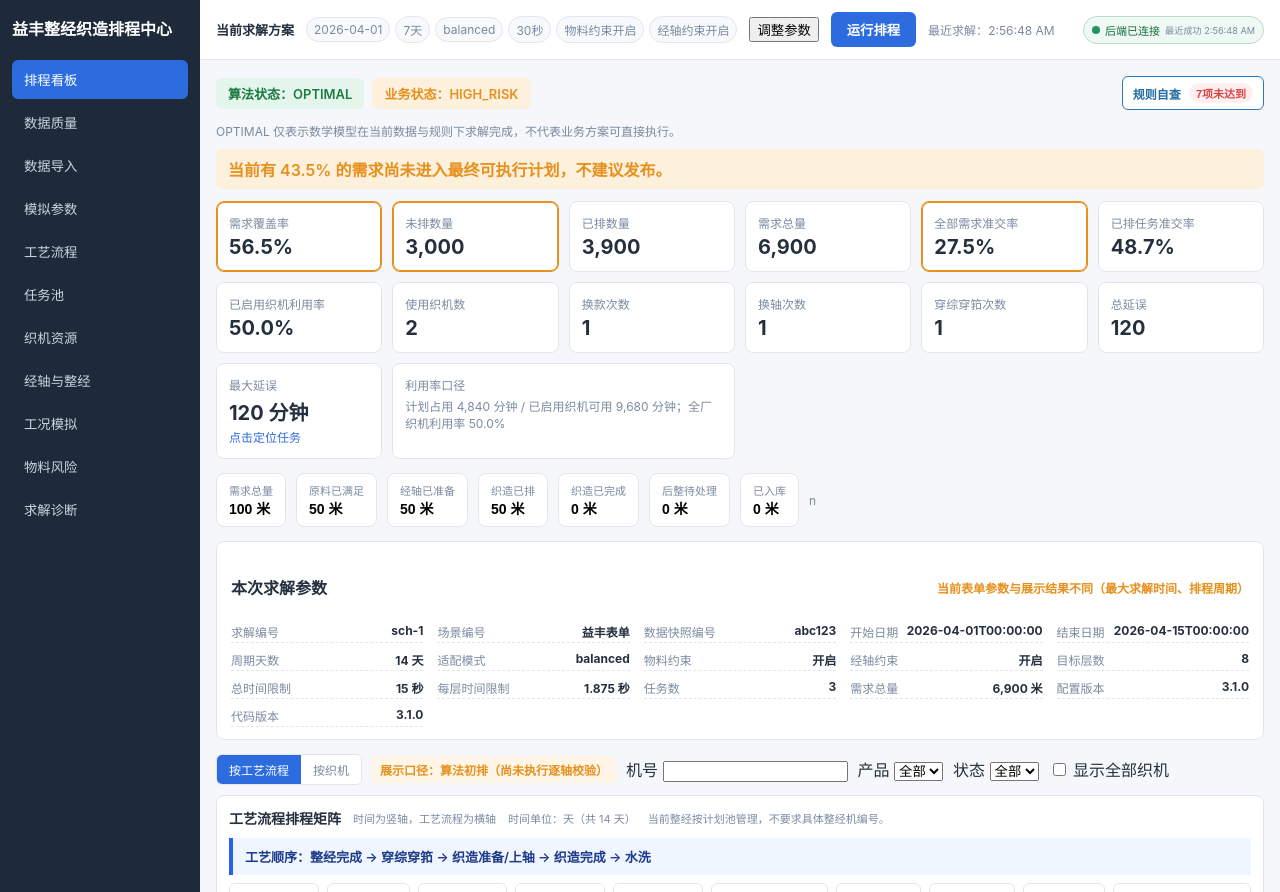
Test case: App › 数据导入页面展示预检查入口和候选快照历史
Click the button "数据导入". click: (100, 166)
box: x1=12 y1=146 x2=188 y2=185
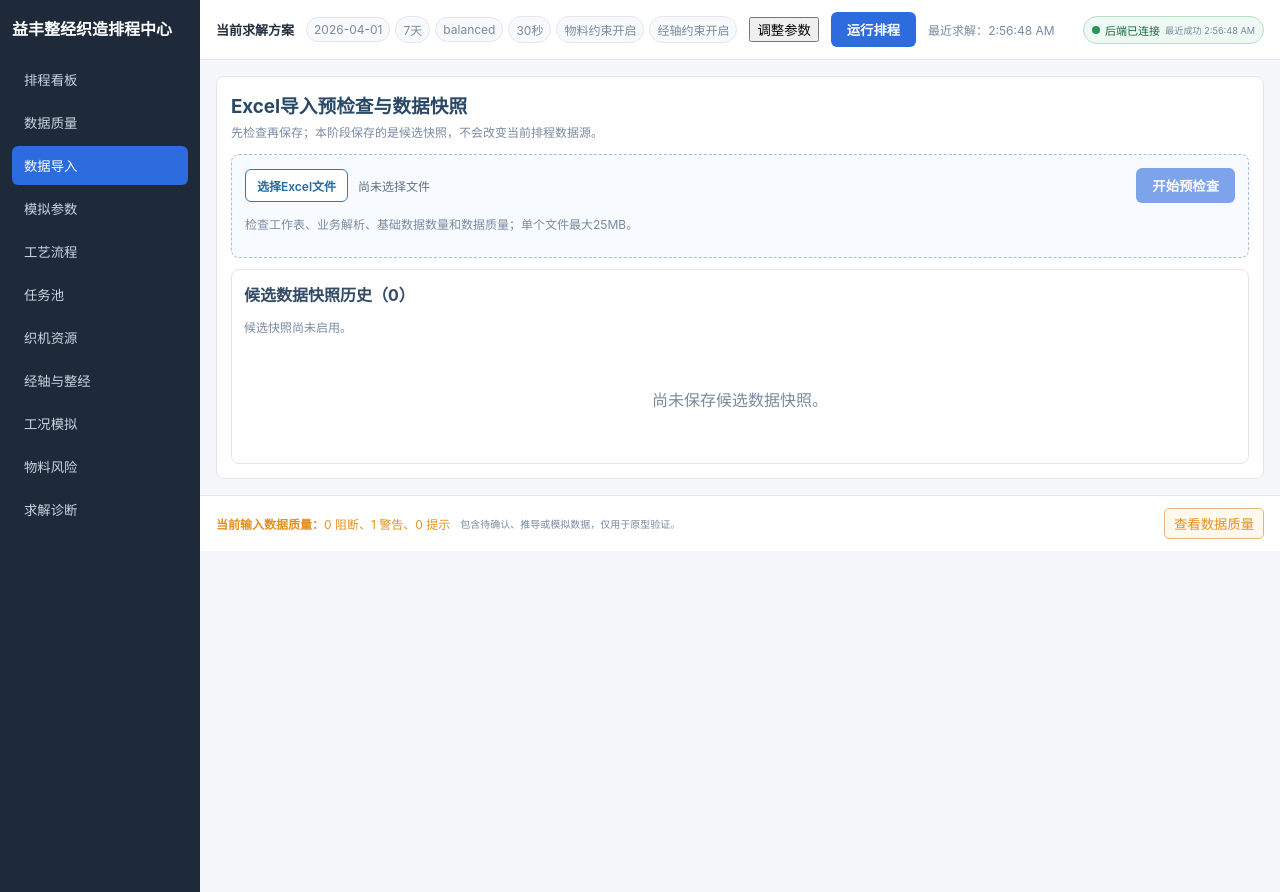
Result: the element with test id "data-import-page" is shown at x1=216 y1=76 x2=1264 y2=479
Result: the heading "Excel导入预检查与数据快照" is shown at x1=231 y1=95 x2=467 y2=118
Result: the element with test id "snapshot-history" shows "候选数据快照历史（0）" at x1=231 y1=269 x2=1249 y2=464
